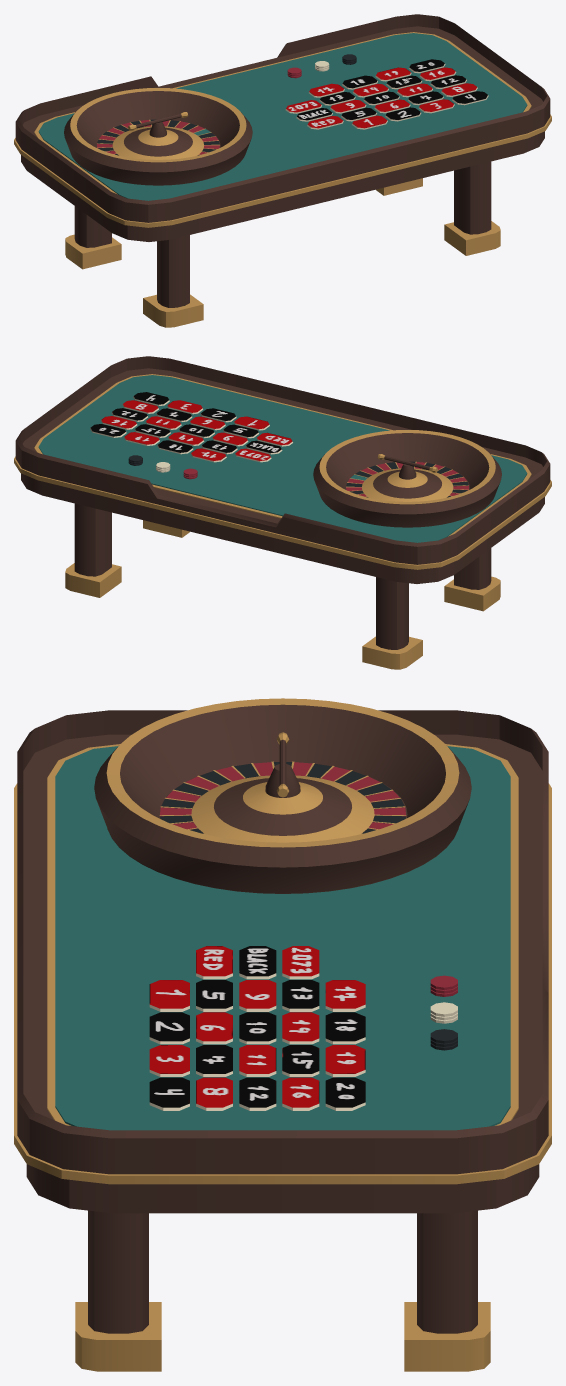
The model's file is Casino_RouletteTable.fbx.
3 views of the same model, one above another, from view 1: azimuth 30°, elevation 25°; view 2: azimuth 150°, elevation 25°; view 3: azimuth 270°, elevation 25° (orthographic). The views are drawn at different scales.
Visible parts, largest first — view 1: Casino_RouletteTable; view 2: Casino_RouletteTable; view 3: Casino_RouletteTable.
Boxes of the visible parts, <box> form: Casino_RouletteTable: <box>14,14,551,327</box>; Casino_RouletteTable: <box>14,356,551,669</box>; Casino_RouletteTable: <box>14,698,551,1371</box>.
Bounding box in the file's own units: 320 × 113 × 170.
